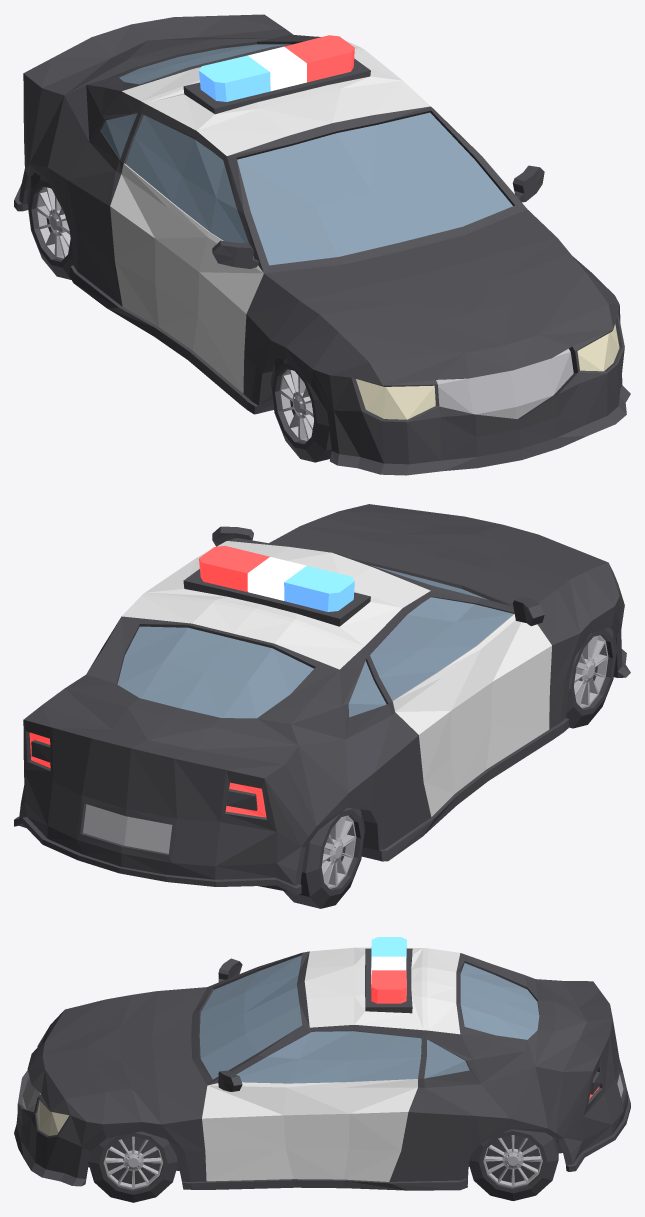
Rendered from Cop.glb.
The picture shows the model from 3 angles, top to bottom: view 1: azimuth 30°, elevation 25°; view 2: azimuth 150°, elevation 25°; view 3: azimuth 270°, elevation 25°; orthographic projection. The views are drawn at different scales.
Parts seen in each view (by area): view 1: Black, Windows, White, Grey, Headlights, BlueLights, TailLights, WhiteLights; view 2: Black, White, Windows, Grey, TailLights, BlueLights, WhiteLights; view 3: Black, White, Windows, Grey, TailLights, BlueLights, Headlights, WhiteLights.
Boxes of the visible parts, x1=… form: Black: x1=14, y1=14, x2=630, y2=475; Windows: x1=101, y1=44, x2=512, y2=265; White: x1=110, y1=41, x2=430, y2=393; Grey: x1=36, y1=186, x2=573, y2=442; Headlights: x1=356, y1=324, x2=619, y2=419; BlueLights: x1=199, y1=55, x2=270, y2=101; TailLights: x1=284, y1=35, x2=354, y2=82; WhiteLights: x1=248, y1=46, x2=306, y2=91; Black: x1=14, y1=504, x2=630, y2=908; White: x1=122, y1=541, x2=551, y2=816; Windows: x1=117, y1=565, x2=513, y2=718; Grey: x1=83, y1=635, x2=608, y2=888; TailLights: x1=29, y1=545, x2=269, y2=817; BlueLights: x1=284, y1=566, x2=354, y2=611; WhiteLights: x1=247, y1=557, x2=306, y2=600; Black: x1=14, y1=948, x2=630, y2=1202; White: x1=202, y1=947, x2=460, y2=1181; Windows: x1=199, y1=955, x2=539, y2=1083; Grey: x1=22, y1=1074, x2=623, y2=1189; TailLights: x1=371, y1=970, x2=599, y2=1098; BlueLights: x1=371, y1=937, x2=406, y2=970; Headlights: x1=37, y1=1100, x2=69, y2=1135; WhiteLights: x1=371, y1=956, x2=406, y2=983.
Size of the model in its own units: 1.78 by 1.24 by 3.73.
